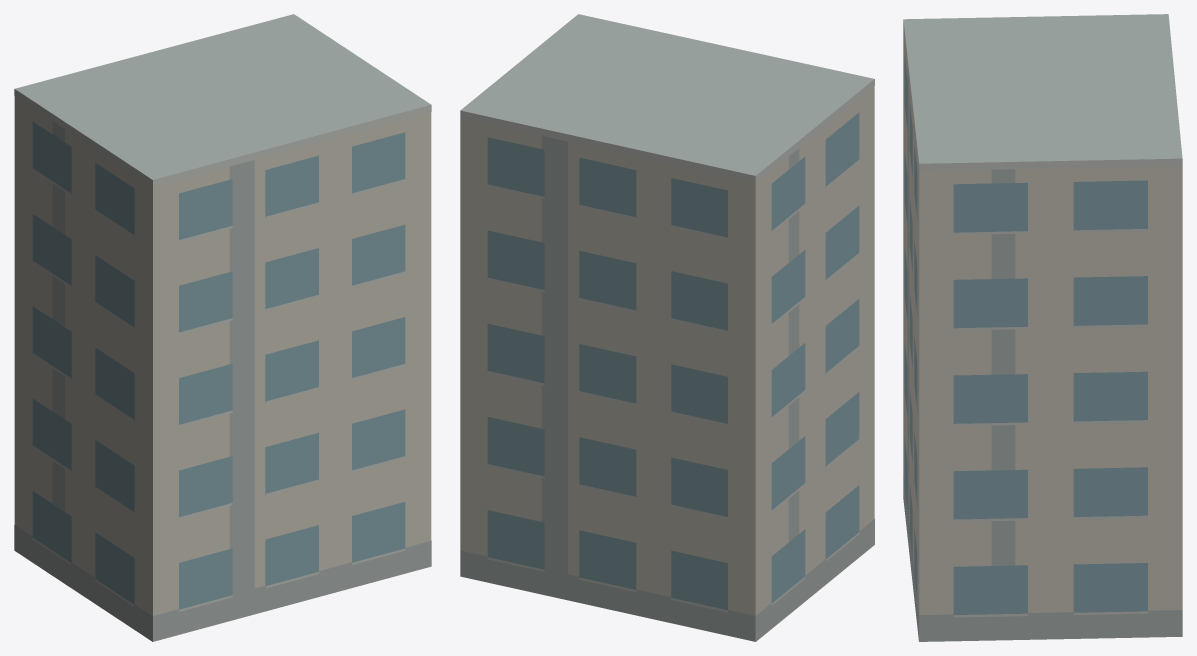
Rendered from survey-upis-32575787.glb.
The picture shows the model from 3 angles, left to right: view 1: azimuth 30°, elevation 25°; view 2: azimuth 150°, elevation 25°; view 3: azimuth 270°, elevation 25°; orthographic projection. The views are drawn at different scales.
Visible parts, largest first — view 1: survey-upis-32575787.tmp; view 2: survey-upis-32575787.tmp; view 3: survey-upis-32575787.tmp.
Boxes of the visible parts, bbox=[...] form: survey-upis-32575787.tmp: bbox=[14, 14, 431, 641]; survey-upis-32575787.tmp: bbox=[460, 14, 874, 641]; survey-upis-32575787.tmp: bbox=[903, 14, 1182, 641].
Size of the model in its own units: 10.49 by 15.6 by 8.27.
